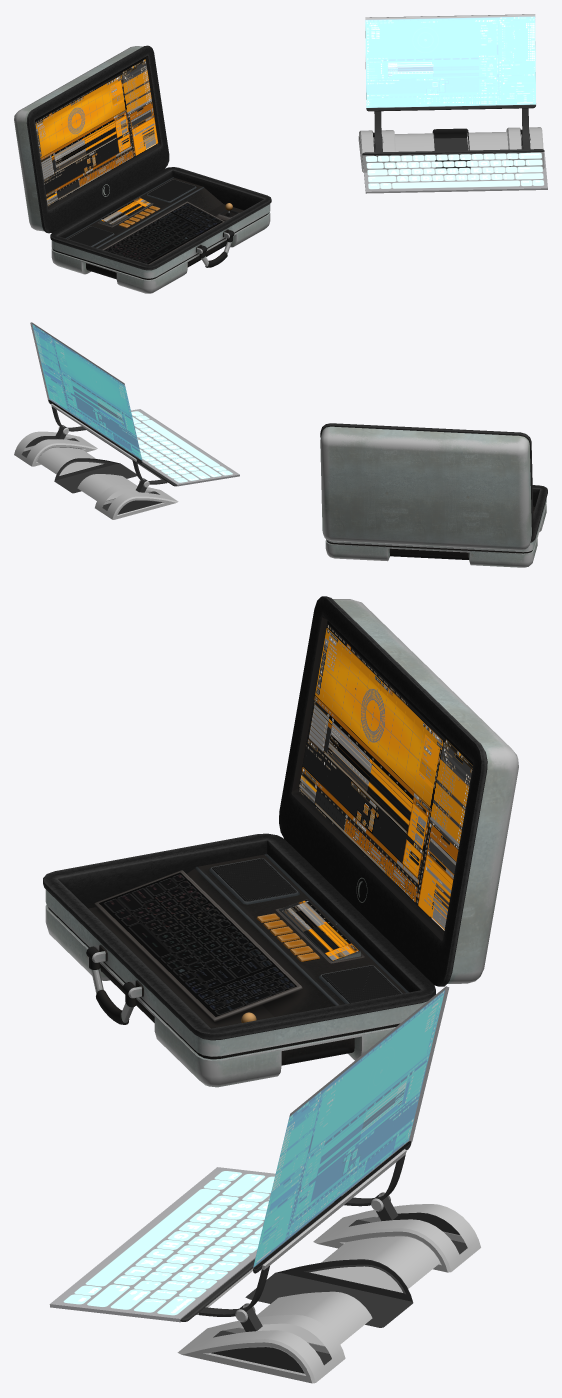
The model's file is sci_fi_computers_pack.glb.
3 views of the same model, one above another, from view 1: azimuth 30°, elevation 25°; view 2: azimuth 150°, elevation 25°; view 3: azimuth 270°, elevation 25° (orthographic). The views are drawn at different scales.
Visible parts, largest first — view 1: computer_2, computer_1; view 2: computer_2, computer_1; view 3: computer_2, computer_1.
Boxes of the visible parts, x1,y1,x2,y2 form: computer_2: [14, 45, 271, 293]; computer_1: [358, 14, 547, 193]; computer_2: [320, 423, 547, 567]; computer_1: [14, 322, 239, 519]; computer_2: [43, 596, 518, 1087]; computer_1: [50, 986, 480, 1383].
Size of the model in its own units: 14.76 by 4.01 by 5.89.
Materials: 7 (4 with a texture image).
